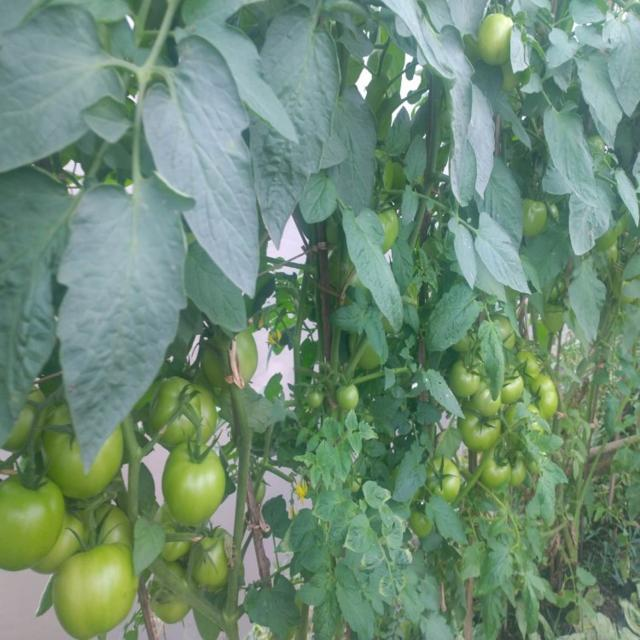tomato: (52, 544, 138, 627), (1, 472, 57, 574), (165, 442, 224, 523), (42, 407, 88, 505), (150, 376, 205, 444), (52, 506, 127, 552), (480, 13, 516, 72), (200, 533, 234, 591), (13, 390, 45, 449), (196, 337, 223, 398), (429, 452, 462, 501), (465, 415, 502, 450), (522, 195, 555, 234), (534, 373, 562, 418), (152, 595, 194, 621), (340, 382, 368, 417), (239, 334, 256, 391), (479, 453, 509, 485), (456, 364, 484, 396), (380, 205, 398, 249), (519, 351, 546, 380), (472, 393, 502, 419), (496, 314, 518, 348), (506, 455, 527, 490), (505, 380, 529, 403), (308, 390, 325, 414)
